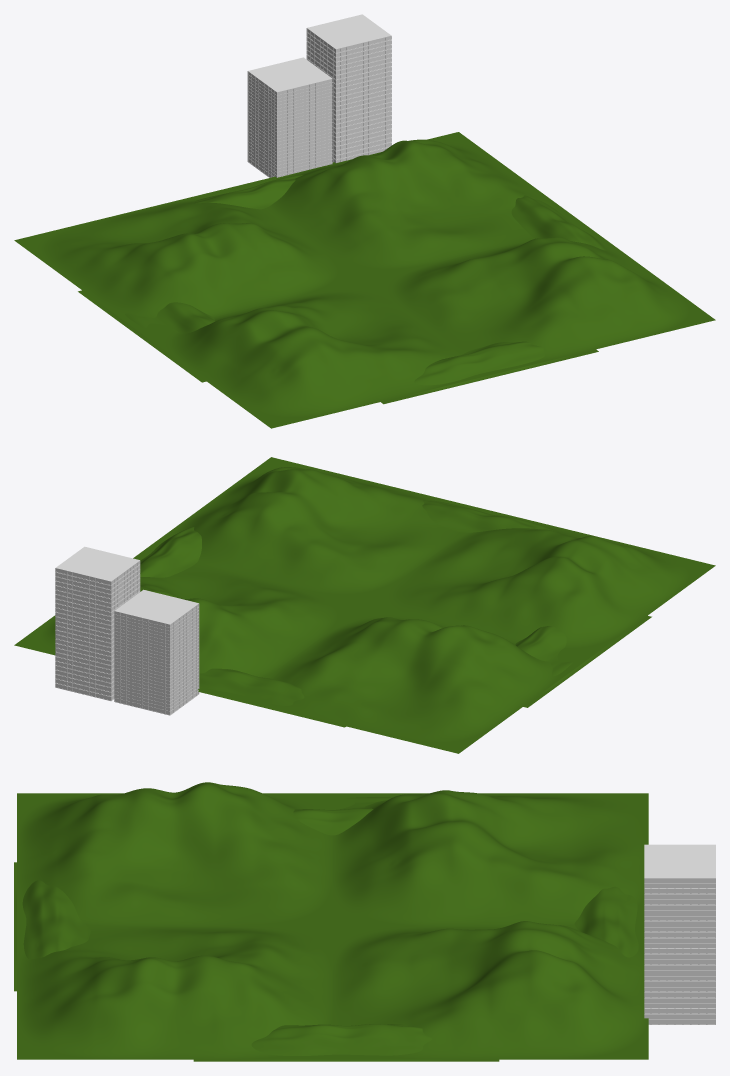
Rendered from landscape_portfolio14.glb.
3 views of the same model, one above another, from view 1: azimuth 30°, elevation 25°; view 2: azimuth 150°, elevation 25°; view 3: azimuth 270°, elevation 25° (orthographic). The views are drawn at different scales.
Parts seen in each view (by area): view 1: Terrain, Building.001, Building; view 2: Terrain, Building.001, Building; view 3: Terrain, Building.001.
Part boxes in pixels (left/top/right/bottom): Terrain: left=14, top=132, right=715, bottom=428; Building.001: left=306, top=14, right=391, bottom=162; Building: left=247, top=57, right=332, bottom=177; Terrain: left=14, top=457, right=715, bottom=753; Building.001: left=55, top=546, right=140, bottom=700; Building: left=114, top=589, right=199, bottom=715; Terrain: left=14, top=782, right=648, bottom=1061; Building.001: left=644, top=844, right=715, bottom=1024.
Size of the model in its own units: 141 by 36.02 by 156.
